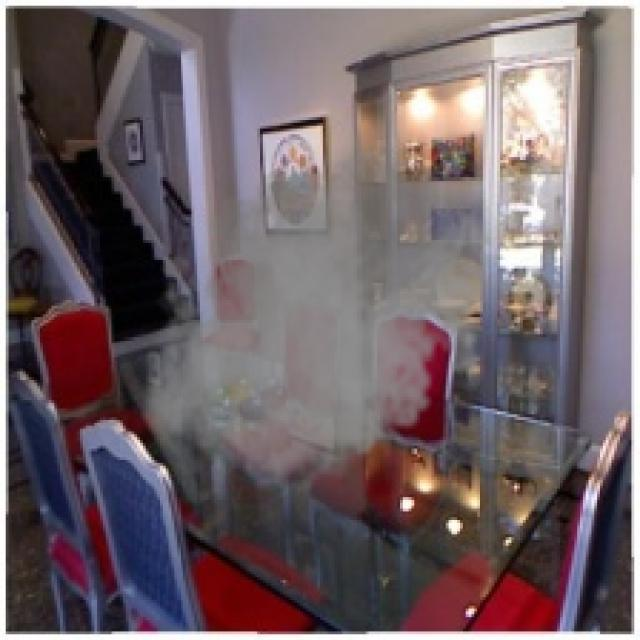Smoke: (137, 117, 506, 500)
